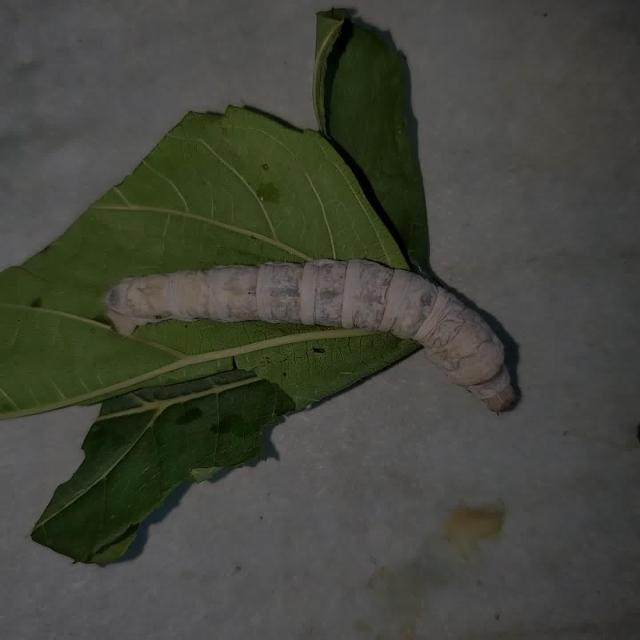Grasserie: (82, 239, 543, 458)
